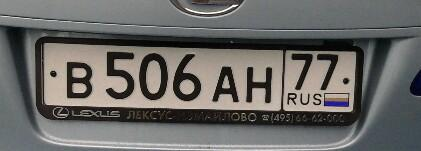license-plateSW: (38, 38, 360, 115)
